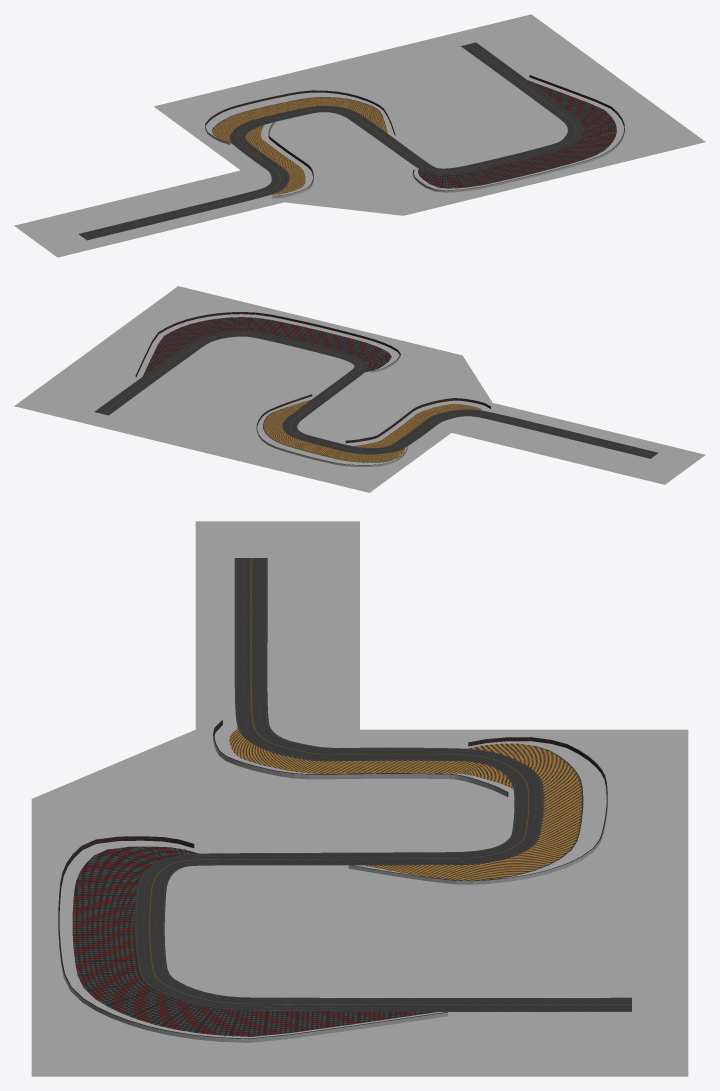
The model's file is level_1.fbx.
The picture shows the model from 3 angles, top to bottom: view 1: azimuth 30°, elevation 25°; view 2: azimuth 150°, elevation 25°; view 3: azimuth 270°, elevation 25°; orthographic projection. The views are drawn at different scales.
Parts seen in each view (by area): view 1: pPlane2, polySurface9, polySurface16; view 2: pPlane2, polySurface9, polySurface16; view 3: pPlane2, polySurface9, polySurface16.
Part boxes in pixels (bbox=[...]): pPlane2: bbox=[14, 14, 705, 257]; polySurface9: bbox=[78, 42, 616, 240]; polySurface16: bbox=[205, 75, 624, 198]; pPlane2: bbox=[14, 286, 705, 492]; polySurface9: bbox=[94, 317, 658, 462]; polySurface16: bbox=[135, 312, 490, 466]; pPlane2: bbox=[31, 521, 688, 1076]; polySurface9: bbox=[72, 558, 631, 1036]; polySurface16: bbox=[58, 720, 607, 1042].
Bounding box in the file's own units: 60410 × 280 × 30205.
Materials: 5 (3 with a texture image).
